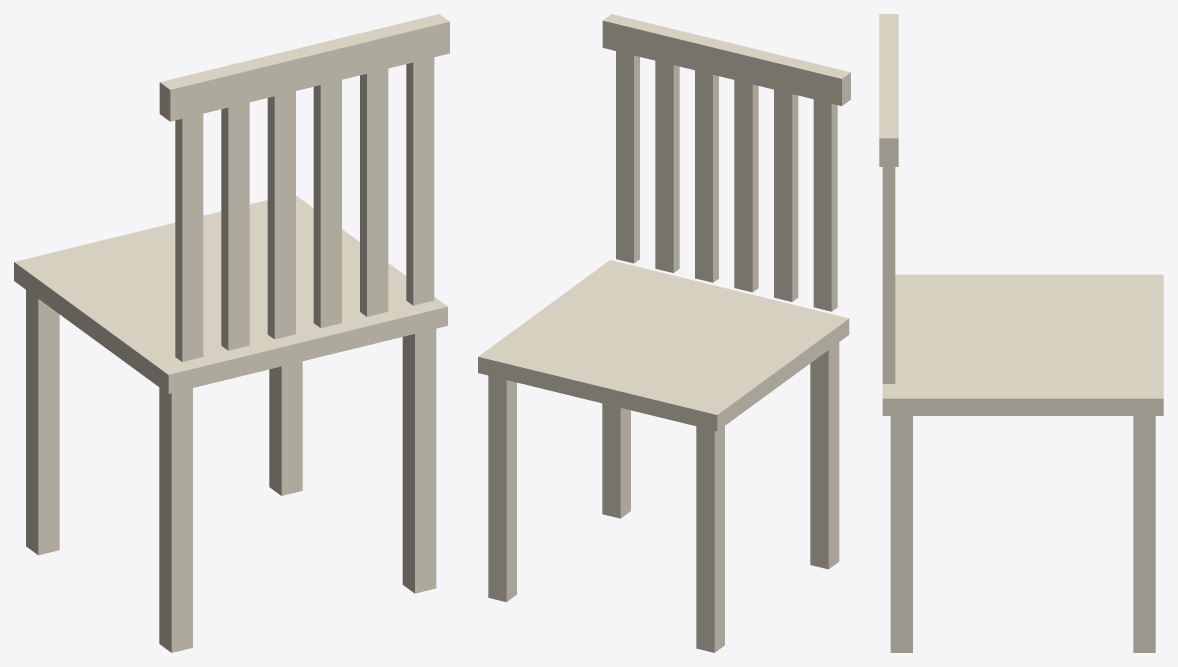
Rendered from chair-plastic.glb.
The picture shows the model from 3 angles, left to right: view 1: azimuth 30°, elevation 25°; view 2: azimuth 150°, elevation 25°; view 3: azimuth 270°, elevation 25°; orthographic projection. The views are drawn at different scales.
Parts seen in each view (by area): view 1: chair-plastic; view 2: chair-plastic; view 3: chair-plastic.
Boxes of the visible parts, x1,y1,x2,y2 form: chair-plastic: (14, 14, 449, 652); chair-plastic: (478, 14, 850, 652); chair-plastic: (879, 14, 1163, 652).
Size of the model in its own units: 0.46 by 0.895 by 0.445.
